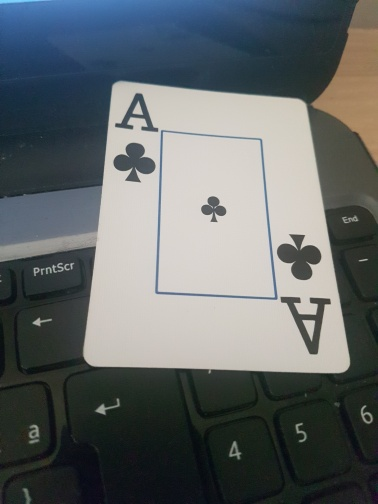ace: (85, 80, 351, 374)
